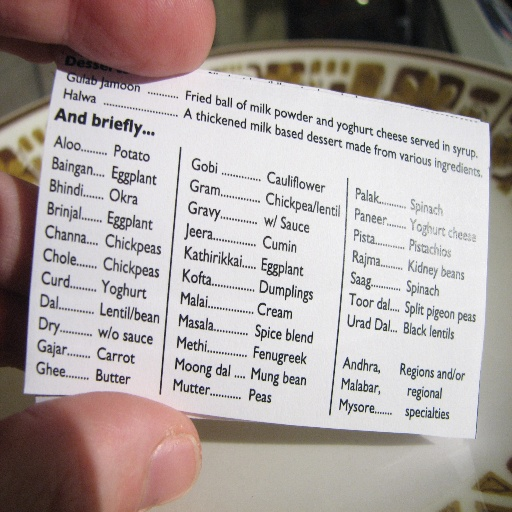hand: (0, 0, 217, 511)
